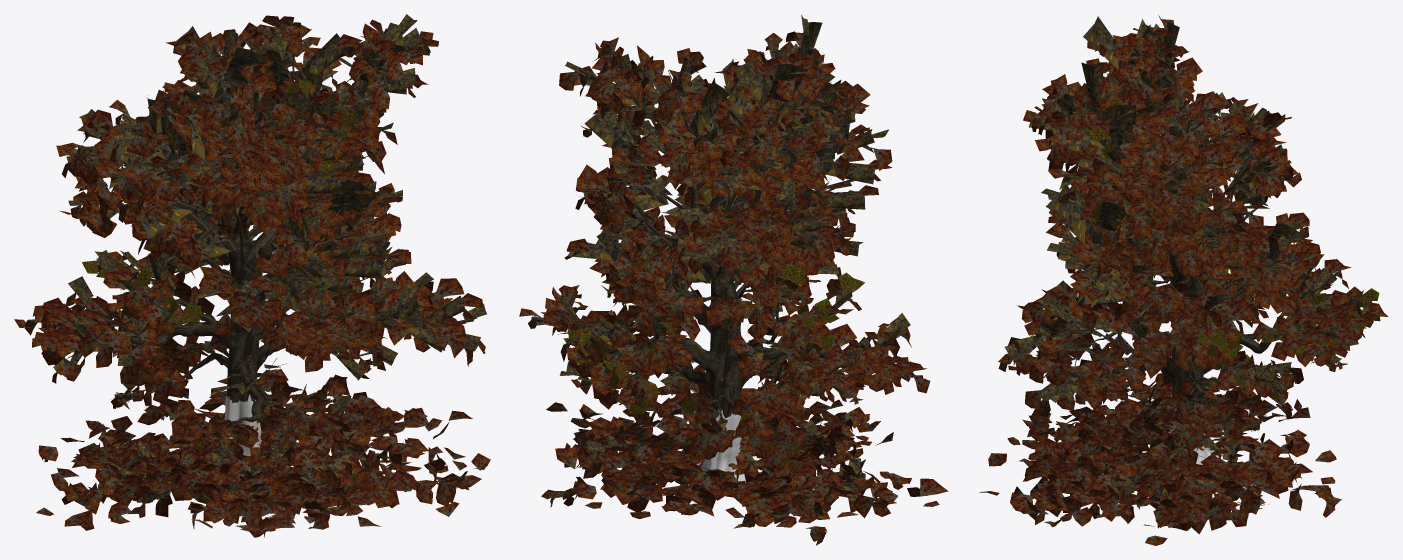
Rendered from Broadleaf_Hero_Field.fbx.
The picture shows the model from 3 angles, left to right: view 1: azimuth 30°, elevation 25°; view 2: azimuth 150°, elevation 25°; view 3: azimuth 270°, elevation 25°; orthographic projection. The views are drawn at different scales.
Parts seen in each view (by area): view 1: LOD0; view 2: LOD0; view 3: LOD0.
Part boxes in pixels (left/top/right/bottom): LOD0: left=14, top=14, right=490, bottom=537; LOD0: left=519, top=15, right=948, bottom=545; LOD0: left=979, top=15, right=1388, bottom=545.
Size of what is drawn, in the model's own units: 48.97 by 52.22 by 45.1.
